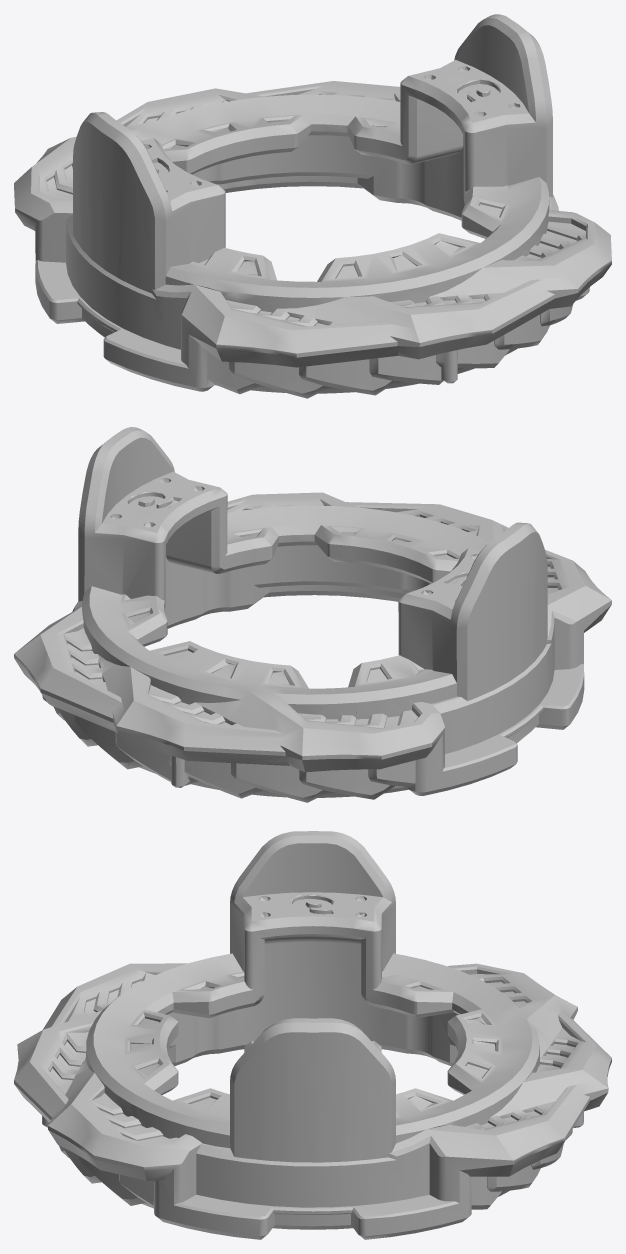
3 views of the same model, one above another, from view 1: azimuth 30°, elevation 25°; view 2: azimuth 150°, elevation 25°; view 3: azimuth 270°, elevation 25° (orthographic). The views are drawn at different scales.
Parts seen in each view (by area): view 1: Mesh_0020out.001; view 2: Mesh_0020out.001; view 3: Mesh_0020out.001.
Boxes of the visible parts, x1,y1,x2,y2 form: Mesh_0020out.001: (14, 14, 611, 398); Mesh_0020out.001: (14, 427, 611, 802); Mesh_0020out.001: (14, 831, 611, 1239).
Bounding box in the file's own units: 0.3569 × 0.155 × 0.4084.
Materials: 1 (1 with a texture image).
